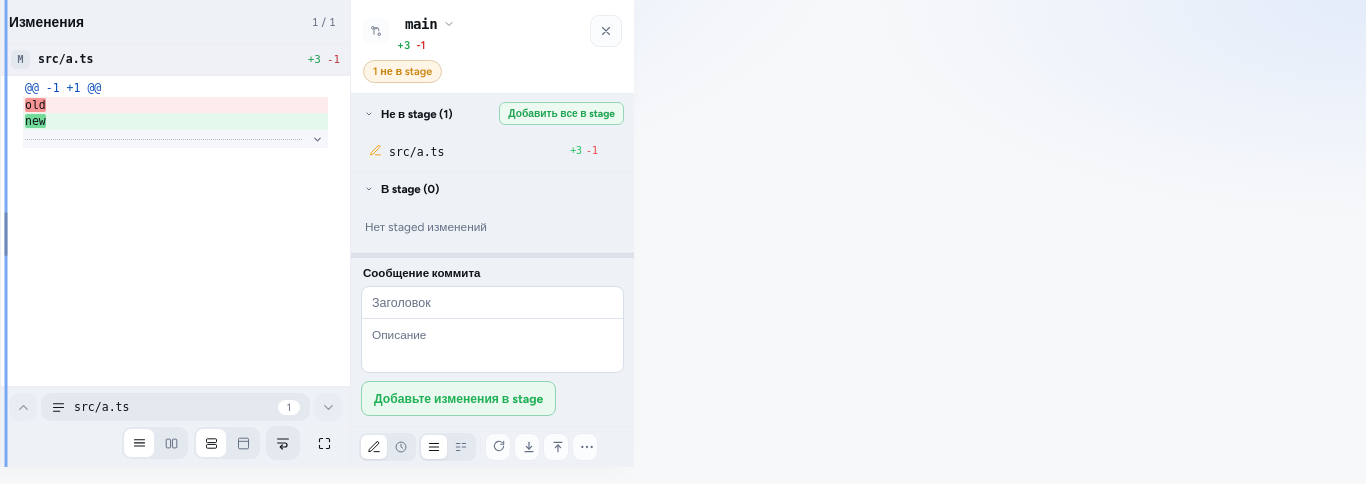
Test: GitChangesSidePanel › keeps fetch and the stash pair behind the overflow button
Expected: the element named "Ещё" is shown, [351, 426, 634, 467]
Expected: the menu item "Fetch" is not shown
Click the button named "Ещё": coordinates (585, 447) [572, 433, 598, 461]
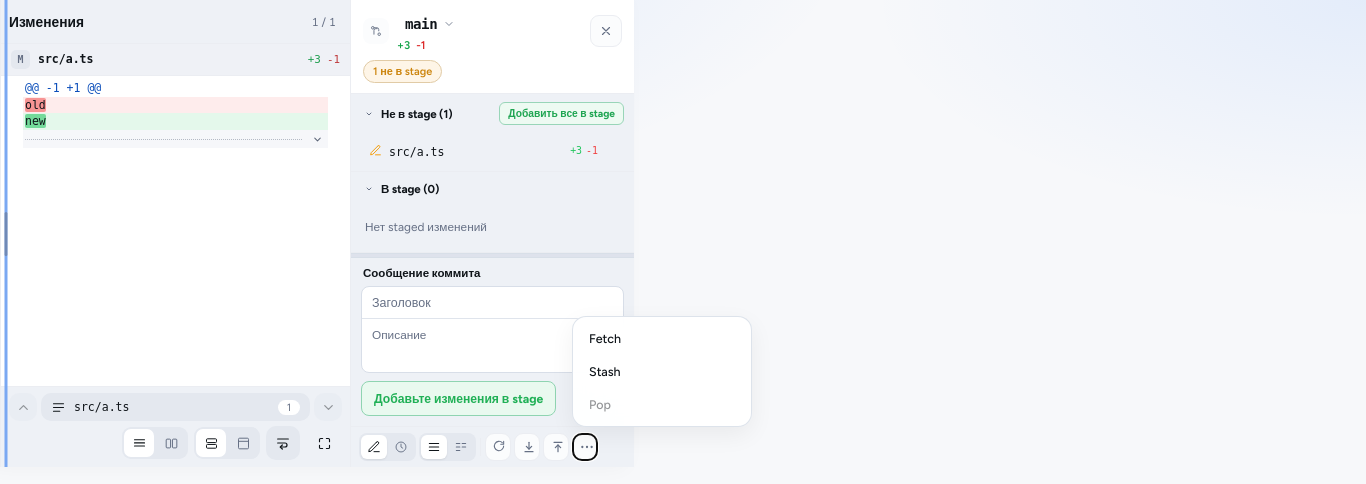
Result: the menu item "Stash" is shown at [579, 356, 745, 387]
Result: the menu item "Pop" is disabled at [579, 389, 745, 420]
Click the menu item "Fetch": coordinates (662, 339) [579, 323, 745, 354]
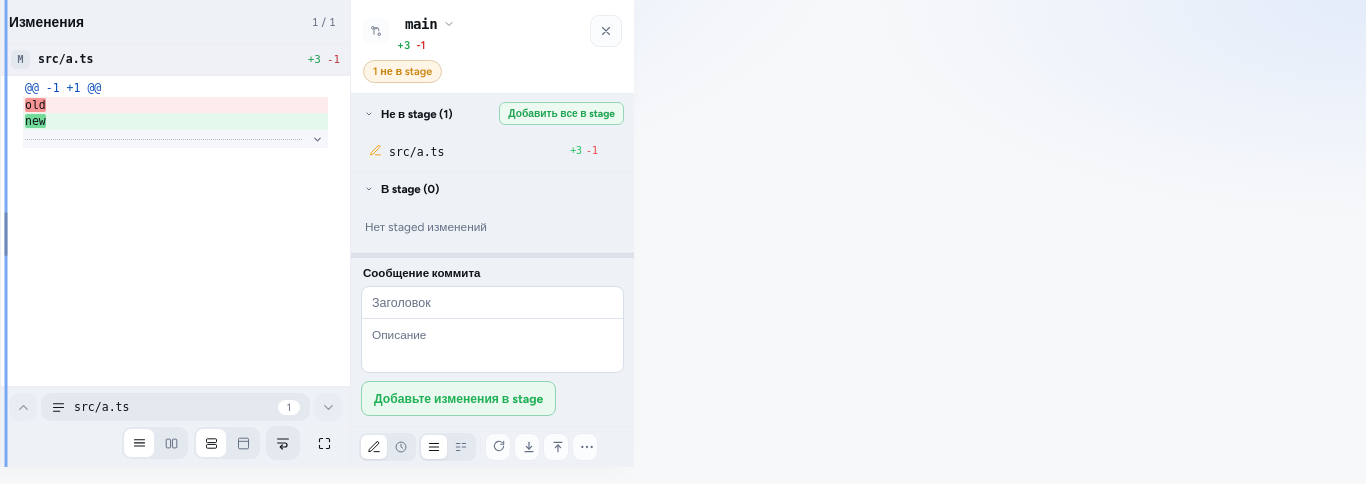
Result: the menu is gone
